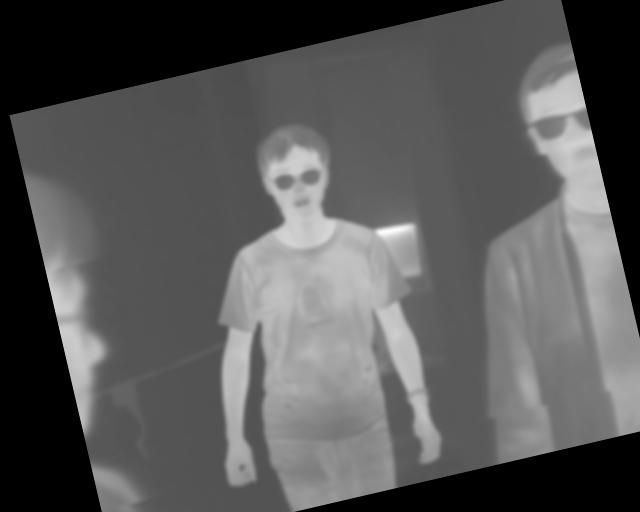face: (505, 37, 604, 199), (248, 114, 344, 228)
